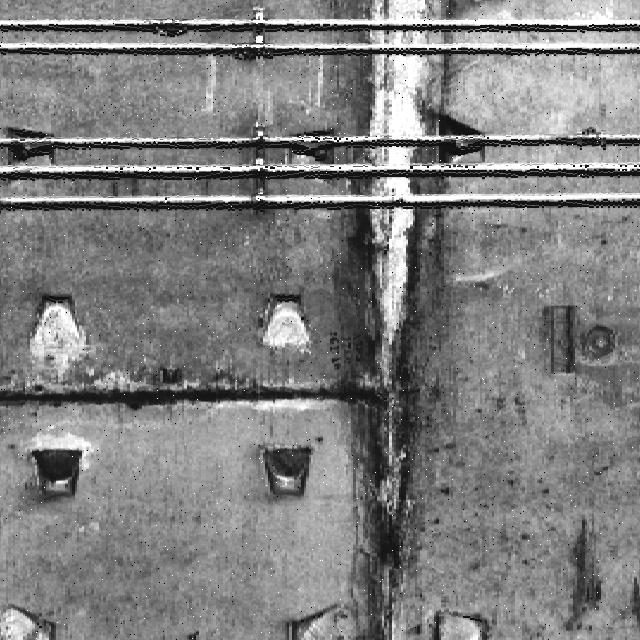leakage: (340, 1, 452, 638)
